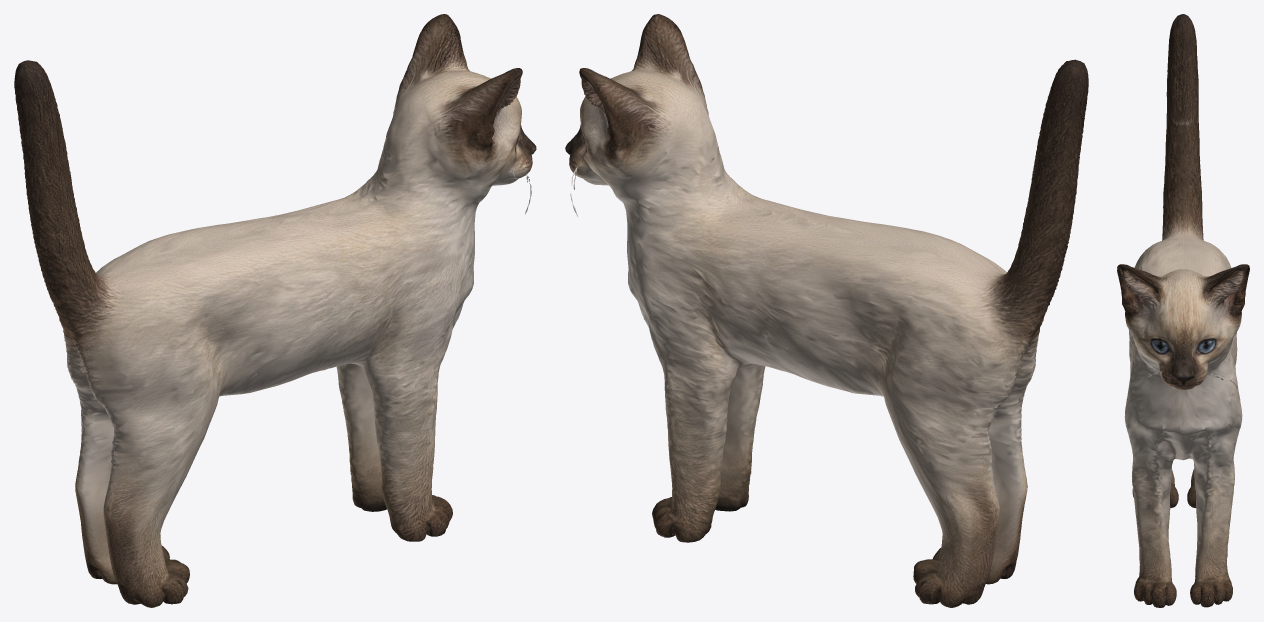
The model's file is CUPSEYCAT.glb.
3 renders of one model, left to right at view 1: azimuth 30°, elevation 25°; view 2: azimuth 150°, elevation 25°; view 3: azimuth 270°, elevation 25°, orthographic. The views are drawn at different scales.
Parts seen in each view (by area): view 1: tripo_node_4721d3dc-c05e-4b0d-b3ea-372cea5e1fcc; view 2: tripo_node_4721d3dc-c05e-4b0d-b3ea-372cea5e1fcc; view 3: tripo_node_4721d3dc-c05e-4b0d-b3ea-372cea5e1fcc.
Boxes of the visible parts, bbox=[...] form: tripo_node_4721d3dc-c05e-4b0d-b3ea-372cea5e1fcc: bbox=[14, 14, 536, 607]; tripo_node_4721d3dc-c05e-4b0d-b3ea-372cea5e1fcc: bbox=[565, 14, 1088, 607]; tripo_node_4721d3dc-c05e-4b0d-b3ea-372cea5e1fcc: bbox=[1117, 14, 1249, 607].
Size of the model in its own units: 0.9802 by 0.9996 by 0.274.
1 material, 1 textured.
